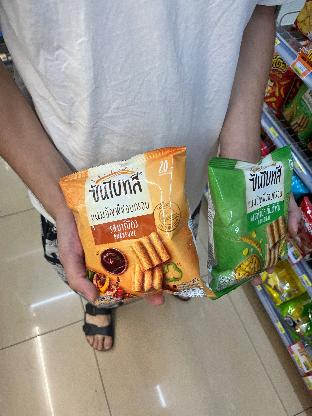Plastic Packaging: (49, 155, 209, 303), (196, 145, 302, 296)
